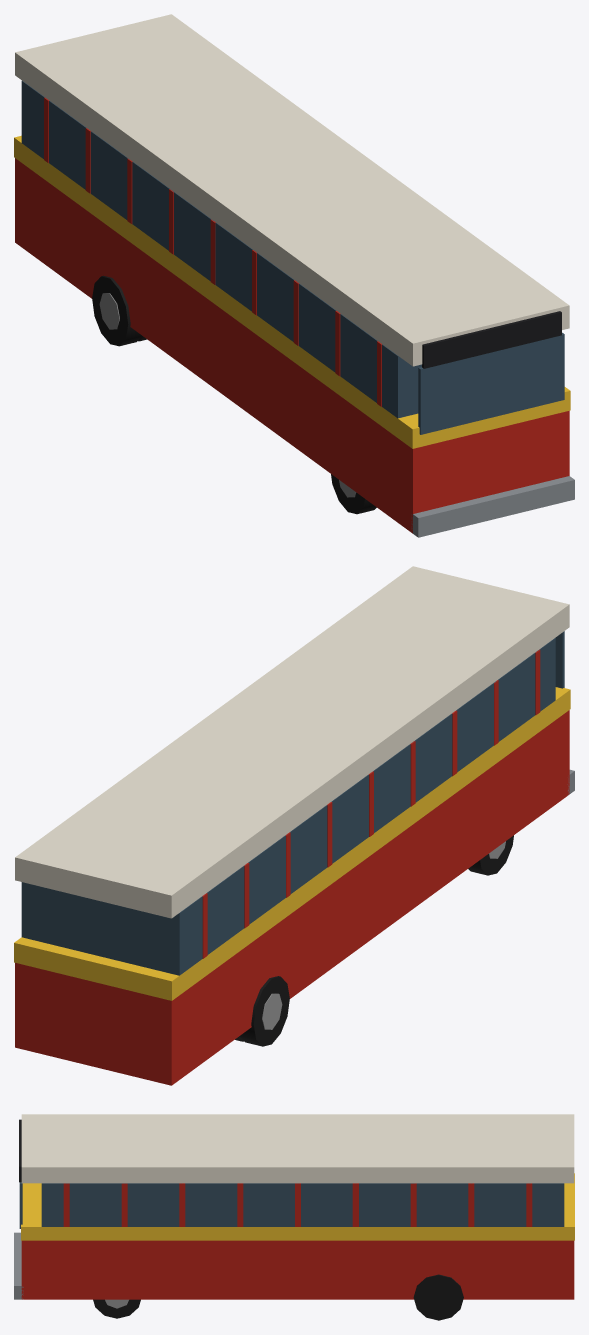
The model's file is bus_state_transport.glb.
3 views of the same model, one above another, from view 1: azimuth 30°, elevation 25°; view 2: azimuth 150°, elevation 25°; view 3: azimuth 270°, elevation 25° (orthographic). The views are drawn at different scales.
Visible parts, largest first — view 1: bus_state_transport, wheel_RL, wheel_FL; view 2: bus_state_transport, wheel_RL, wheel_FL; view 3: bus_state_transport, wheel_RR, wheel_FR.
Part boxes in pixels (x1,y1,x2,y2): bus_state_transport: (14,14,574,537); wheel_RL: (92,275,146,346); wheel_FL: (331,474,376,514); bus_state_transport: (14,566,574,1085); wheel_RL: (235,976,289,1046); wheel_FL: (468,835,513,875); bus_state_transport: (14,1114,574,1299); wheel_RR: (413,1274,463,1320); wheel_FR: (93,1299,140,1318).
Size of the model in its own units: 2.58 by 3.35 by 11.16.
